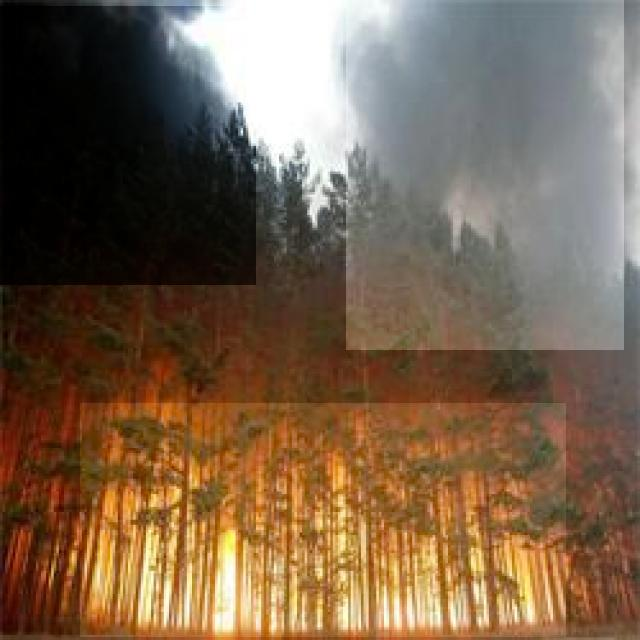Fire: (80, 403, 566, 637)
Smoke: (346, 0, 624, 350), (0, 6, 256, 285)
